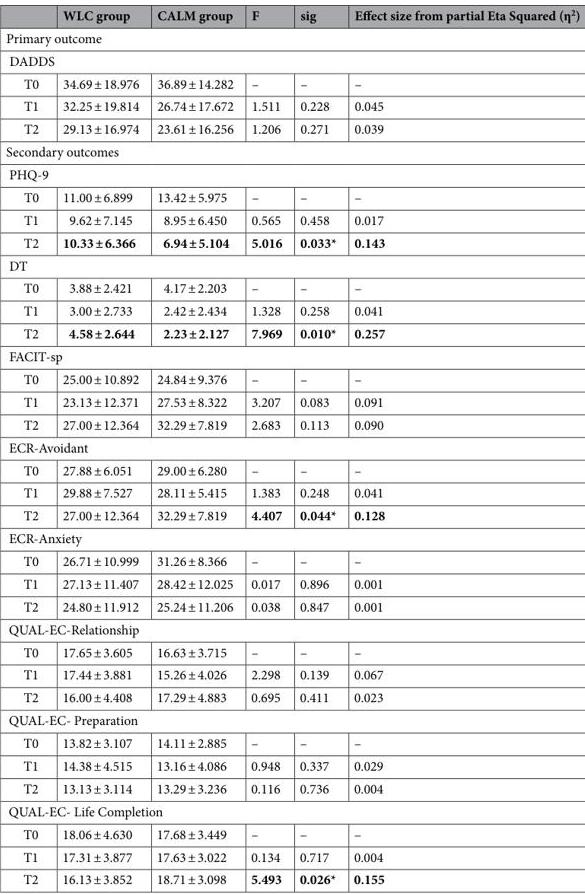table: (5, 5, 579, 888)
table column: (344, 5, 579, 888), (50, 5, 147, 888), (147, 5, 241, 888), (290, 5, 344, 888), (241, 5, 290, 888), (5, 5, 50, 888)
table column header: (5, 5, 579, 26)
table projected row header: (5, 26, 579, 49), (5, 49, 579, 72), (5, 162, 579, 185), (5, 253, 579, 276), (5, 344, 579, 367), (5, 435, 579, 458), (5, 526, 579, 549), (5, 617, 579, 640), (5, 708, 579, 731), (5, 799, 579, 822), (5, 140, 579, 162)
table row: (5, 26, 579, 49), (5, 49, 579, 72), (5, 94, 579, 117), (5, 117, 579, 140), (5, 162, 579, 185), (5, 185, 579, 208), (5, 230, 579, 253), (5, 253, 579, 276), (5, 276, 579, 299), (5, 321, 579, 344), (5, 344, 579, 367), (5, 367, 579, 390), (5, 390, 579, 413), (5, 435, 579, 458), (5, 458, 579, 481), (5, 503, 579, 526), (5, 526, 579, 549), (5, 549, 579, 572), (5, 572, 579, 595), (5, 617, 579, 640), (5, 640, 579, 663), (5, 663, 579, 686), (5, 708, 579, 731), (5, 731, 579, 754), (5, 754, 579, 777), (5, 799, 579, 822), (5, 822, 579, 845), (5, 72, 579, 94), (5, 140, 579, 162), (5, 208, 579, 230), (5, 299, 579, 321), (5, 413, 579, 435), (5, 481, 579, 503), (5, 595, 579, 617), (5, 686, 579, 708), (5, 777, 579, 799), (5, 845, 579, 867), (5, 5, 579, 26), (5, 867, 579, 888)
